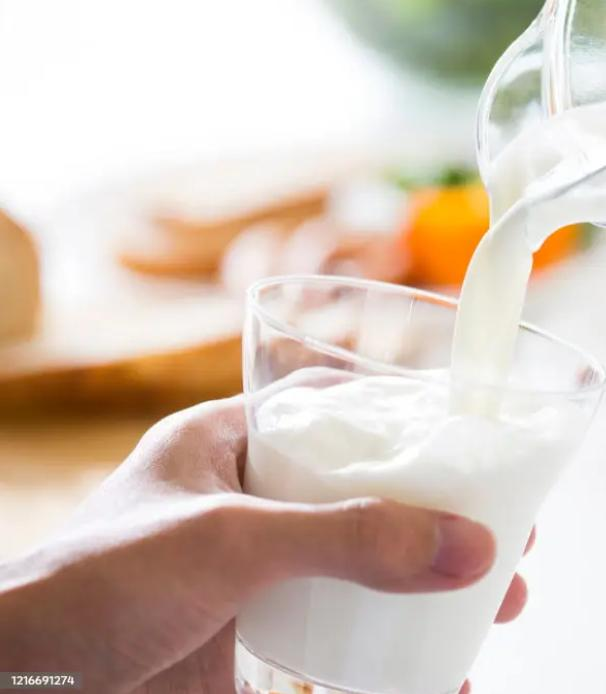produk_susu: (252, 336, 575, 684)
